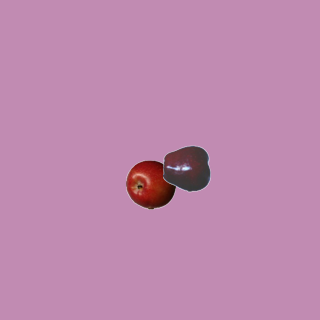Apple Braeburn: (125, 159, 175, 209)
Apple Red Delicious: (162, 143, 212, 193)
